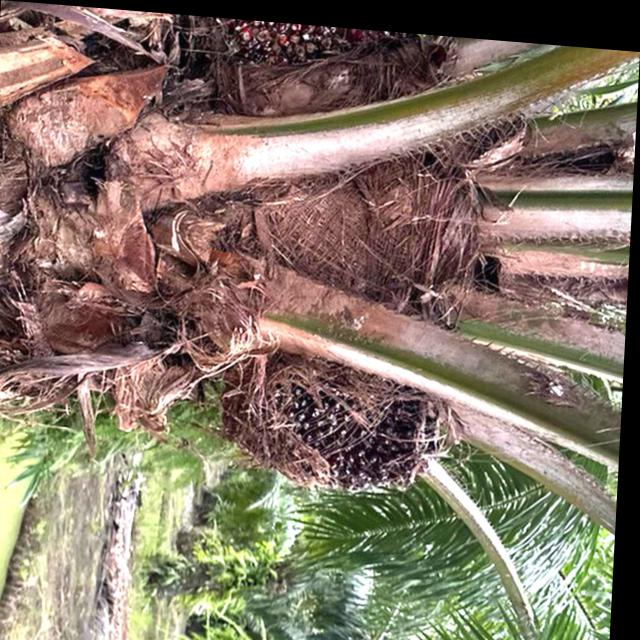ripe: (251, 345, 448, 491)
